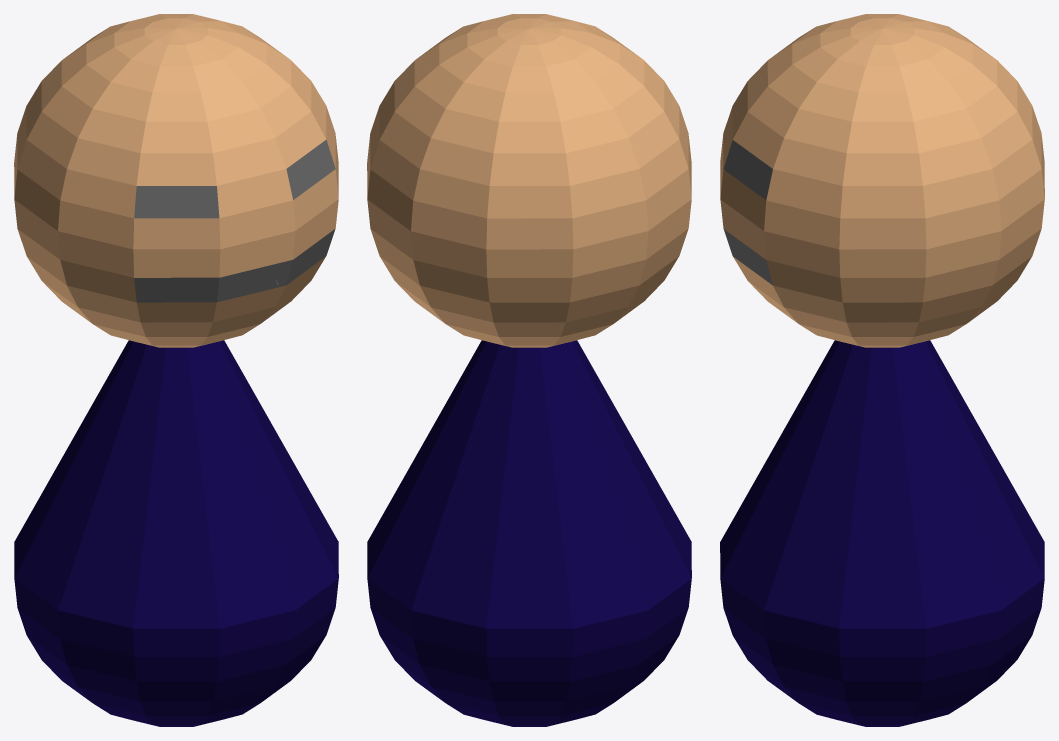
Rendered from Gay.glb.
3 views of the same model, side by side, from view 1: azimuth 30°, elevation 25°; view 2: azimuth 150°, elevation 25°; view 3: azimuth 270°, elevation 25° (orthographic).
Visible parts, largest first — view 1: Цилиндр.002; view 2: Цилиндр.002; view 3: Цилиндр.002.
Boxes of the visible parts, x1,y1,x2,y2 form: Цилиндр.002: (14, 14, 338, 726); Цилиндр.002: (367, 14, 691, 726); Цилиндр.002: (720, 14, 1044, 726).
Size of the model in its own units: 0.8453 by 1.96 by 0.8455.
